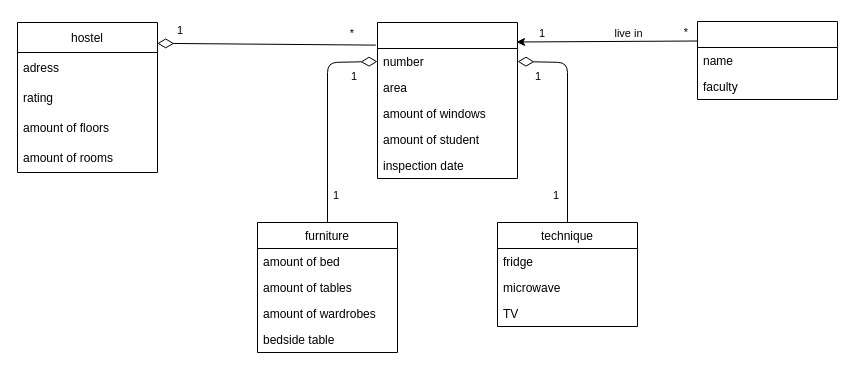
Some shapes in this 855 by 372 pixel diagram are drawn without their labels. Here are the shapes that lost their labels. From the top down, the box of each, then its label:
(696, 20, 838, 100): student
(376, 22, 518, 178): room
